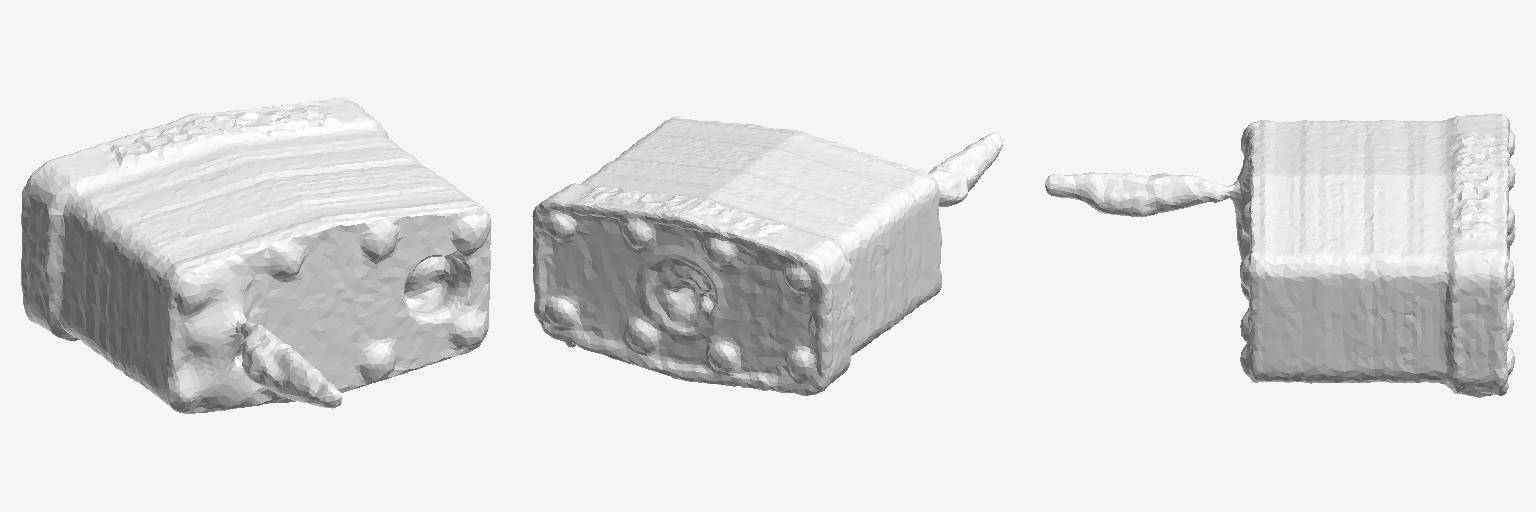
robot.urdf — padlock:
<robot name="padlock">
    <link name="base_link">
        <visual>
            <origin xyz="0.0 -0.0 -0.0" rpy="0.0 0.0 0.0" />
            <geometry>
                <mesh filename="padlock/textured.obj" scale="1 1 1" />
            </geometry>
            <material name="texture">
                <color rgba="1.0 1.0 1.0 1.0" />
            </material>
        </visual>
        <collision>
            <origin xyz="0.0 -0.0 -0.0" rpy="0.0 0.0 0.0" />
            <geometry>
                <mesh filename="padlock/textured_coacd_0.stl" scale="1 1 1" />
            </geometry>
        </collision>
        <collision>
            <origin xyz="0.0 -0.0 -0.0" rpy="0.0 0.0 0.0" />
            <geometry>
                <mesh filename="padlock/textured_coacd_1.stl" scale="1 1 1" />
            </geometry>
        </collision>
        <collision>
            <origin xyz="0.0 -0.0 -0.0" rpy="0.0 0.0 0.0" />
            <geometry>
                <mesh filename="padlock/textured_coacd_2.stl" scale="1 1 1" />
            </geometry>
        </collision>
        <collision>
            <origin xyz="0.0 -0.0 -0.0" rpy="0.0 0.0 0.0" />
            <geometry>
                <mesh filename="padlock/textured_coacd_3.stl" scale="1 1 1" />
            </geometry>
        </collision>
        <collision>
            <origin xyz="0.0 -0.0 -0.0" rpy="0.0 0.0 0.0" />
            <geometry>
                <mesh filename="padlock/textured_coacd_4.stl" scale="1 1 1" />
            </geometry>
        </collision>
        <inertial>
            <mass value="0.208" />
            <inertia ixx="1e-3" ixy="0.0" ixz="0.0" iyy="1e-3" iyz="0.0" izz="1e-3" />
        </inertial>
    </link>
</robot>

--- Render facts (derived) ---
Views: 3 orthographic renders of the robot side by side, from view 1: azimuth 30°, elevation 25°; view 2: azimuth 150°, elevation 25°; view 3: azimuth 270°, elevation 25°.
Model padlock with 1 links and 0 joints (none), rooted at base_link, posed all joints at 0.
Visible links, largest first — view 1: base_link; view 2: base_link; view 3: base_link.
Boxes of the visible links, x1,y1,x2,y2 form: base_link: (21,98,490,413); base_link: (532,116,1002,395); base_link: (1045,114,1515,397).
Size in the robot's own frame: 0.0539 by 0.0703 by 0.0288 metres.
Meshes: 1 distinct files referenced, 1 mesh visuals loaded (1 OBJ).